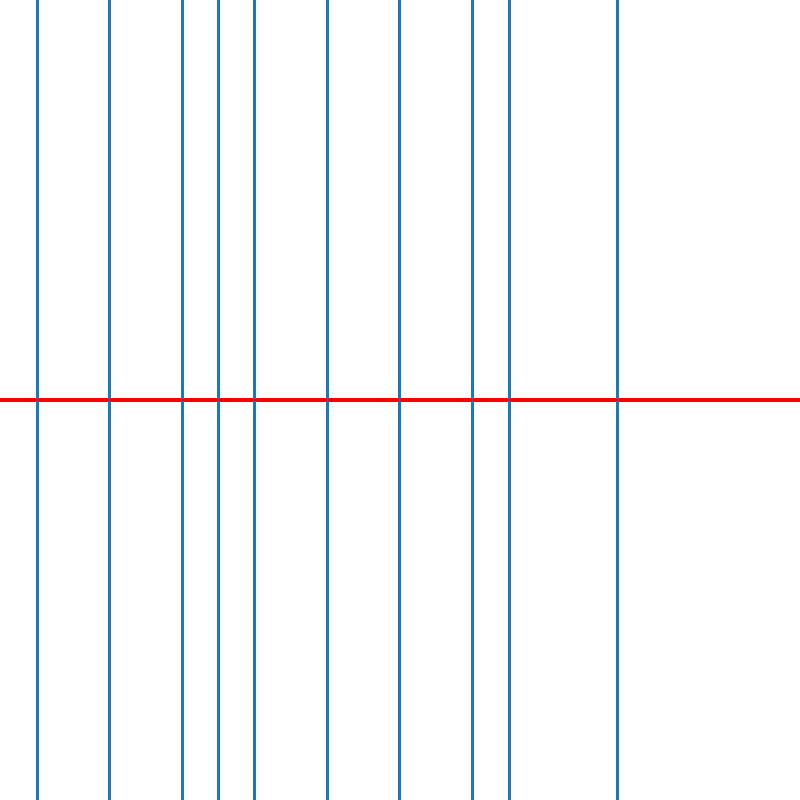root: (32, 396, 40, 404), (250, 396, 258, 404), (469, 396, 476, 404), (323, 396, 330, 404), (505, 396, 512, 404), (614, 396, 621, 404), (396, 396, 403, 404), (178, 396, 185, 404), (105, 396, 112, 404), (214, 396, 221, 404)
